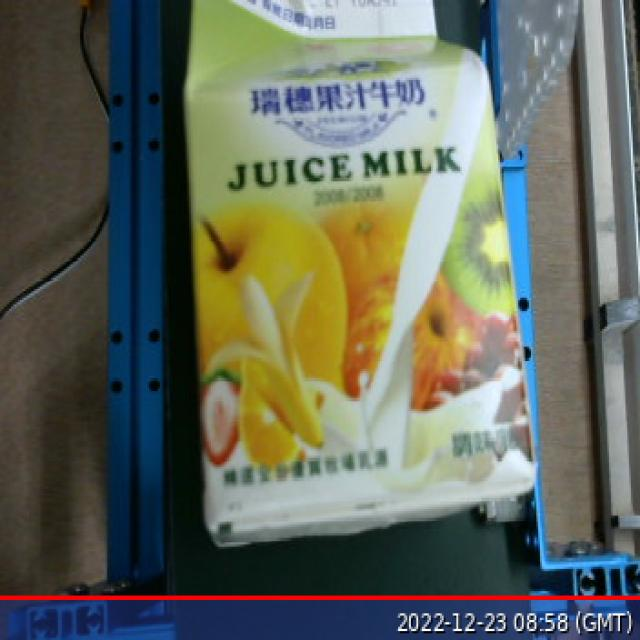non_white_jug: (167, 0, 557, 571)
